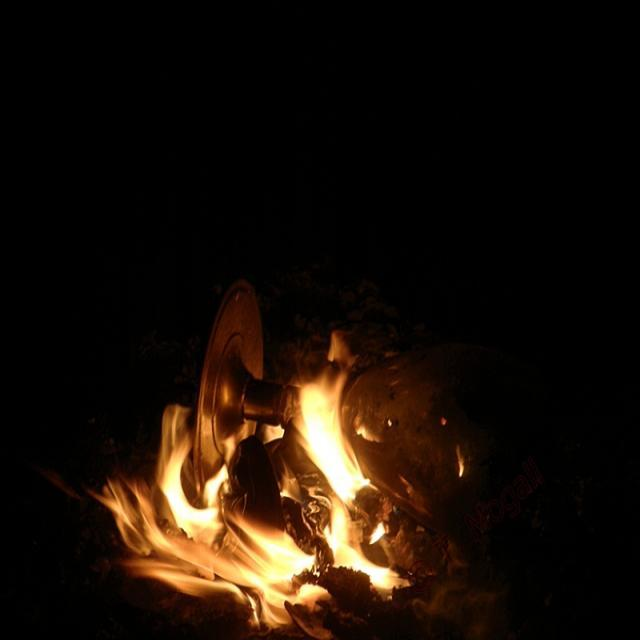Fire: (308, 387, 376, 503), (160, 449, 229, 532)
